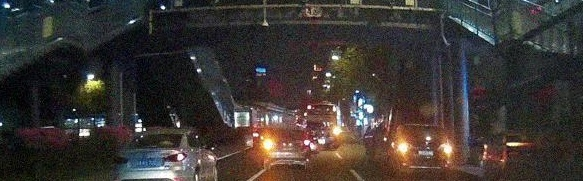L_light: (111, 155, 129, 165), (396, 143, 411, 152), (262, 141, 277, 149)
R_light: (163, 152, 187, 162), (437, 144, 452, 152), (298, 140, 310, 147)
T_light: (422, 136, 433, 141), (151, 133, 163, 136), (281, 129, 291, 132)
night-brake: (396, 124, 452, 174)
night-left: (262, 127, 310, 170)
night-no: (110, 127, 187, 181)
